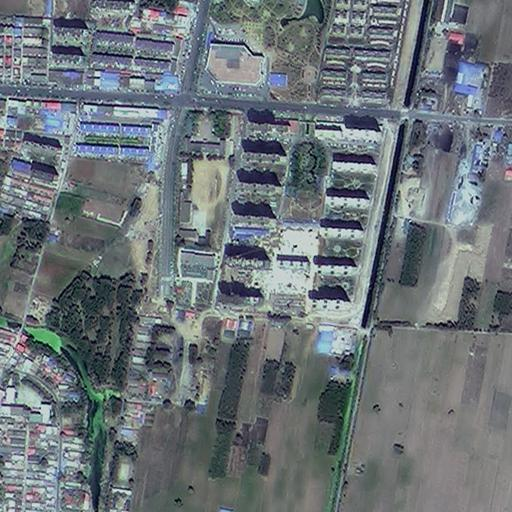school: (174, 107, 234, 247)
